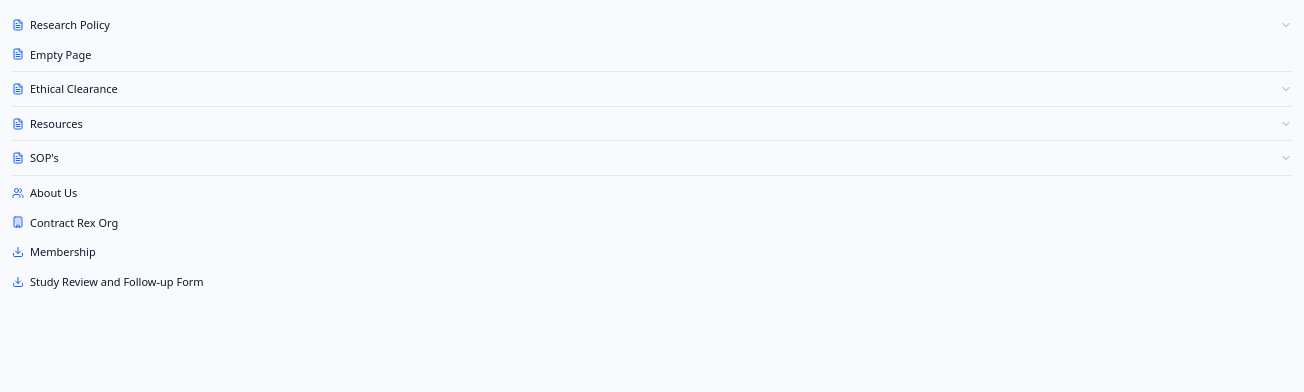
it: PagesDropdown › expands page node on click
Click the button "Research Policy": (70,24) top-left (12, 12), bottom-right (1292, 38)
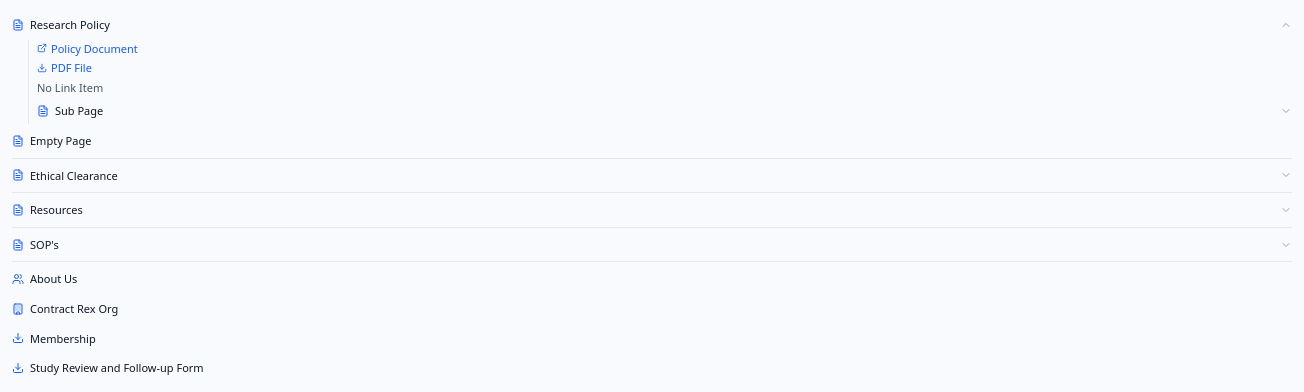
Check: the link "Policy Document" is shown, box top-left (37, 41), bottom-right (138, 56)
